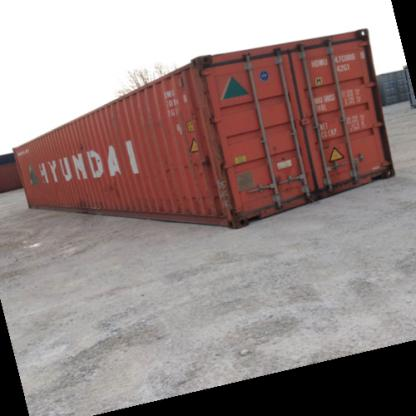Damage: (152, 188, 223, 210), (152, 148, 212, 172), (268, 138, 294, 173), (71, 192, 104, 211), (72, 133, 93, 158), (106, 175, 124, 192)
